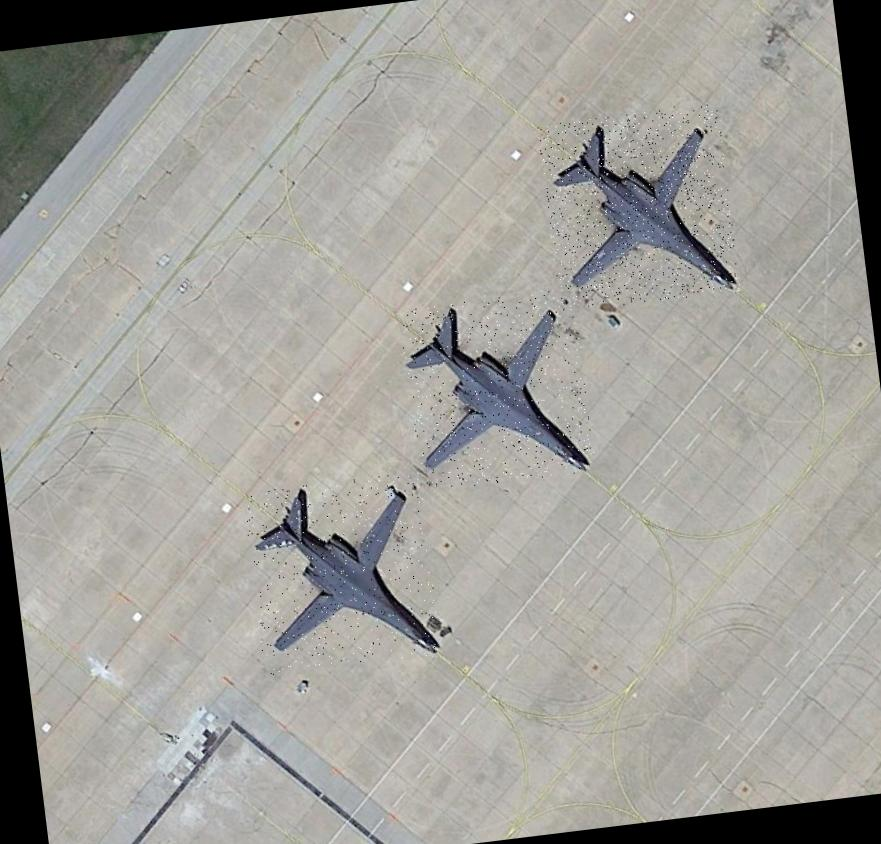A10: (536, 103, 741, 313), (242, 471, 441, 675), (398, 288, 596, 492)
